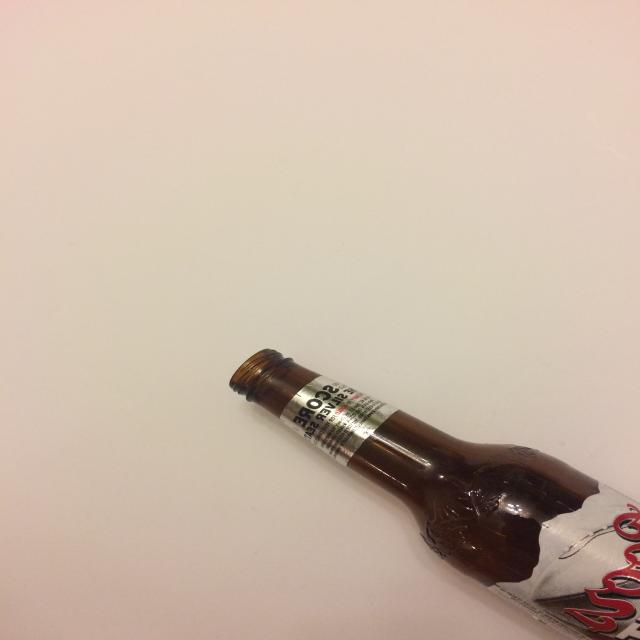glass: (228, 347, 640, 640)
